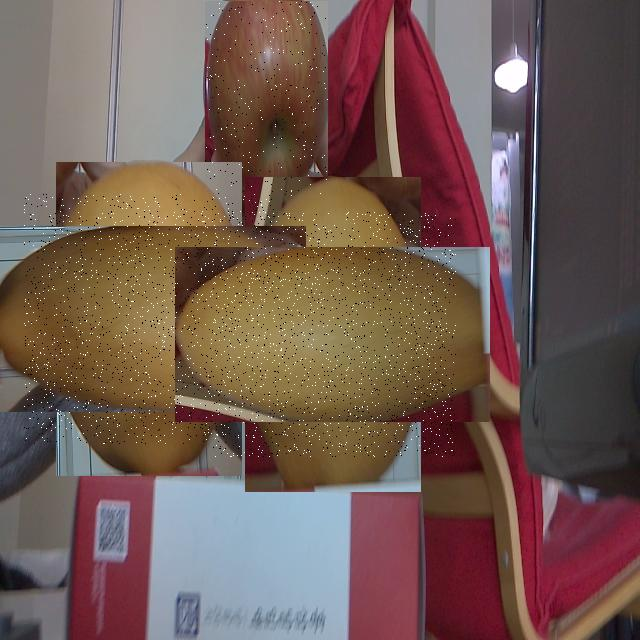apple: (205, 1, 328, 196)
pear: (24, 194, 274, 444), (210, 212, 456, 457)
